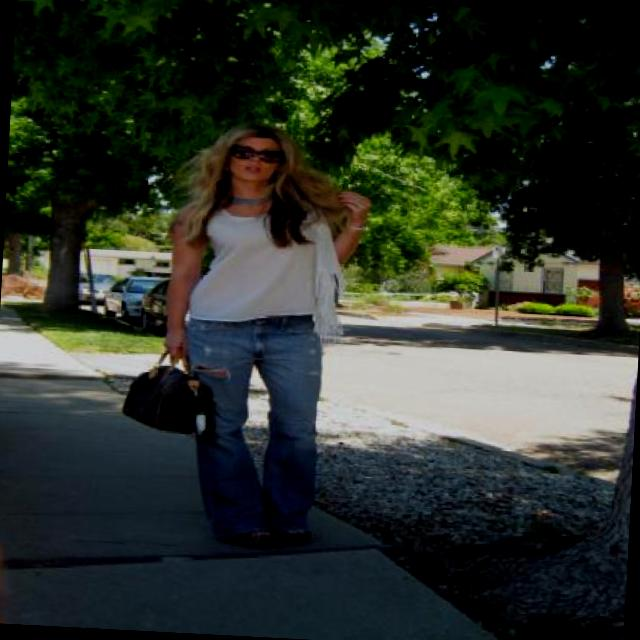Person: (135, 108, 373, 550)
